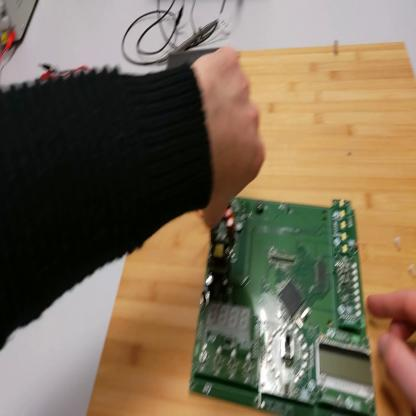hand: (192, 45, 266, 216), (367, 291, 416, 415)
low voltage board: (186, 200, 373, 416)
oscilloscope probe tip: (155, 21, 219, 66)
power supply: (2, 1, 39, 50)
working area: (87, 40, 416, 416)
